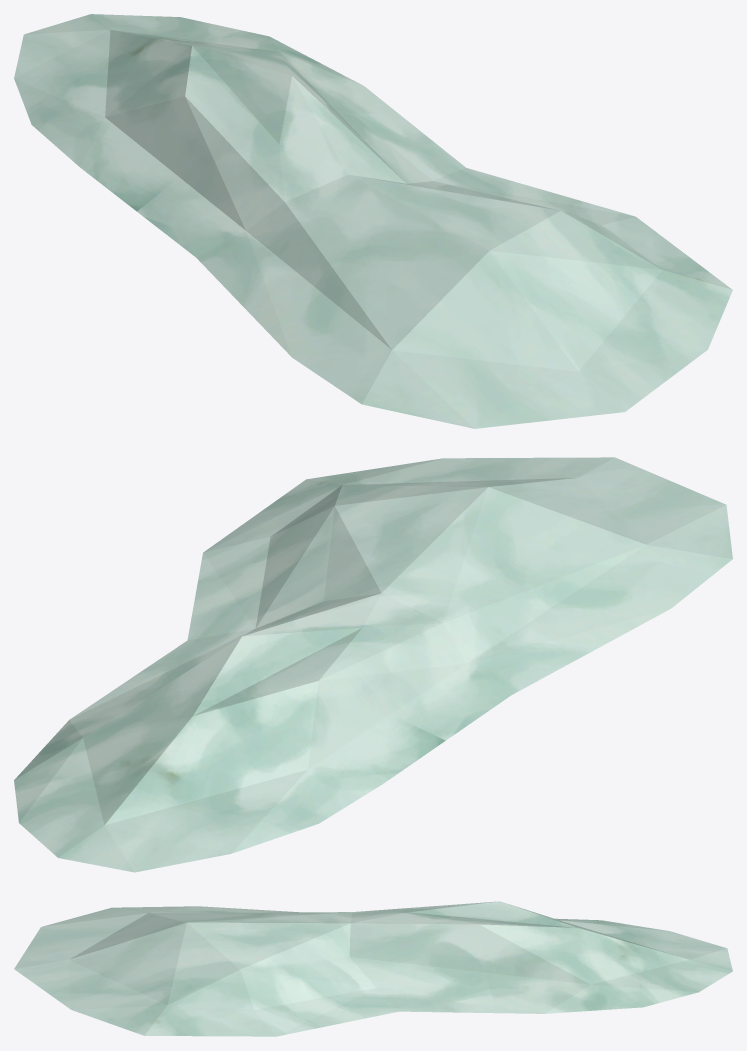
The model's file is small_hill05.fbx.
3 views of the same model, one above another, from view 1: azimuth 30°, elevation 25°; view 2: azimuth 150°, elevation 25°; view 3: azimuth 270°, elevation 25° (orthographic). The views are drawn at different scales.
Visible parts, largest first — view 1: obj0.077; view 2: obj0.077; view 3: obj0.077.
Boxes of the visible parts, x1,y1,x2,y2 form: obj0.077: (14,14,732,428); obj0.077: (14,457,732,872); obj0.077: (14,901,732,1036).
Size of the model in its own units: 4.96 by 0.892 by 11.56.
